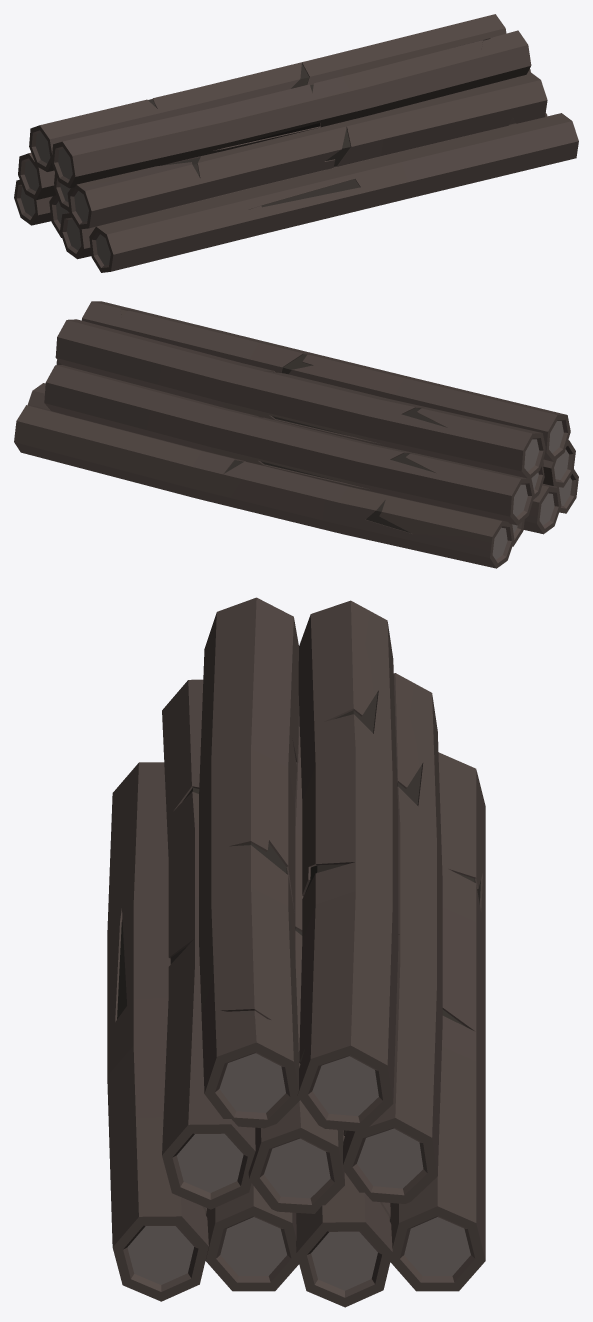
Rendered from props_85.glb.
3 views of the same model, one above another, from view 1: azimuth 30°, elevation 25°; view 2: azimuth 150°, elevation 25°; view 3: azimuth 270°, elevation 25° (orthographic). The views are drawn at different scales.
Visible parts, largest first — view 1: props_85; view 2: props_85; view 3: props_85.
Boxes of the visible parts, x1,y1,x2,y2 form: props_85: (14,14,578,272); props_85: (14,301,578,568); props_85: (107,597,485,1307).
Size of the model in its own units: 3.18 by 0.741 by 1.07.
1 material, 1 textured.
